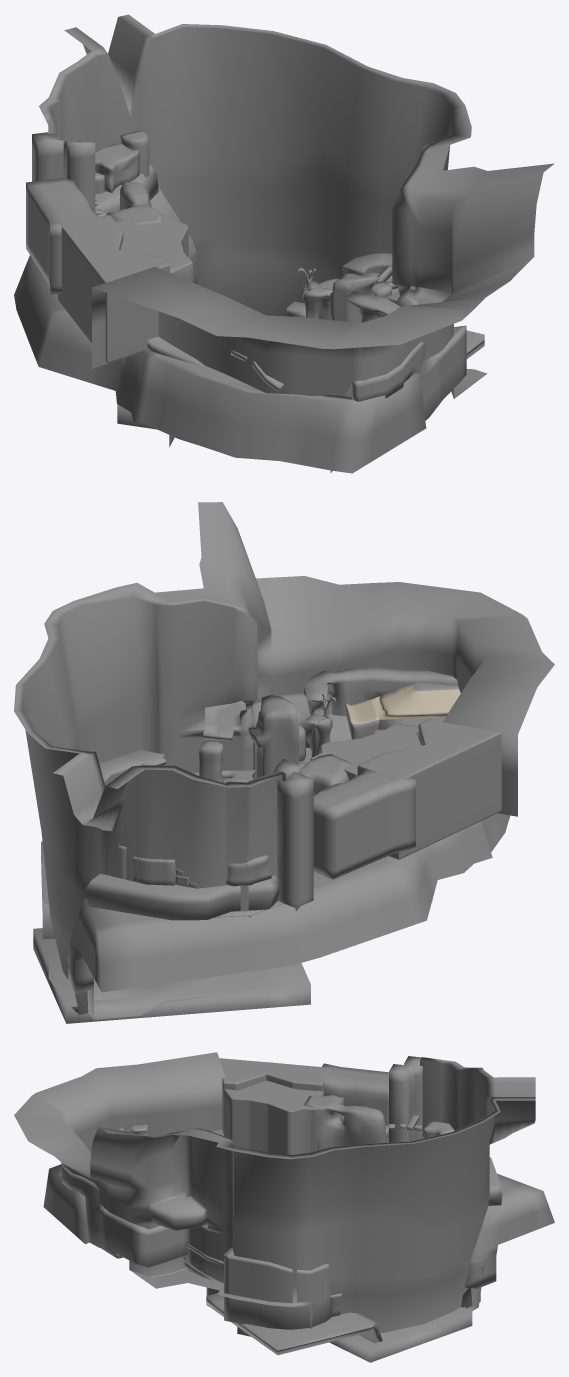
File: env_level03_volcanoV7.fbx
3 renders of one model, top to bottom at view 1: azimuth 30°, elevation 25°; view 2: azimuth 150°, elevation 25°; view 3: azimuth 270°, elevation 25°, orthographic. The views are drawn at different scales.
Visible parts, largest first — view 1: outer_wall, ground, platform_007b, innerWall_003, innerWall_001, platform_007a, platform_020, innerWall_002, innerWall_004, platform_001, landmarkPillar; view 2: outer_wall, ground, platform_007b, innerWall_003, lakeBottom_001, innerWall_001, platform_020, platform_012, platform_007a, innerWall_002, innerWall_004, platform_015 (+2 smaller); view 3: outer_wall, ground, innerWall_004, platform_007a, lakeBottom_002, innerWall_002, lakeBottom_001, platform_007b, innerWall_001, innerWall_003.
Boxes of the visible parts, x1,y1,x2,y2 form: outer_wall: (39,14,554,399); ground: (14,143,466,473); platform_007b: (58,215,169,362); innerWall_003: (26,178,97,294); innerWall_001: (32,132,95,212); platform_007a: (115,214,192,282); platform_020: (329,272,381,322); innerWall_002: (106,182,162,225); innerWall_004: (342,253,415,290); platform_001: (120,130,149,177); landmarkPillar: (302,280,332,318); outer_wall: (14,502,554,1014); ground: (68,667,510,1019); platform_007b: (357,718,501,859); innerWall_003: (313,769,415,879); lakeBottom_001: (33,928,310,1023); innerWall_001: (273,759,313,910); platform_020: (248,695,299,778); platform_012: (375,682,460,719); platform_007a: (310,724,420,779); innerWall_002: (302,754,351,795); innerWall_004: (99,750,165,785); platform_015: (199,740,223,782); outer_wall: (14,1052,535,1339); ground: (43,1121,554,1308); innerWall_004: (224,1248,331,1329); platform_007a: (223,1080,323,1154); lakeBottom_002: (206,1293,382,1355); innerWall_002: (304,1095,385,1150); lakeBottom_001: (329,1307,472,1362); platform_007b: (219,1058,330,1132); innerWall_001: (389,1056,422,1142); innerWall_003: (322,1063,388,1124).
Bounding box in the file's own units: 21163 × 14576 × 30564.
